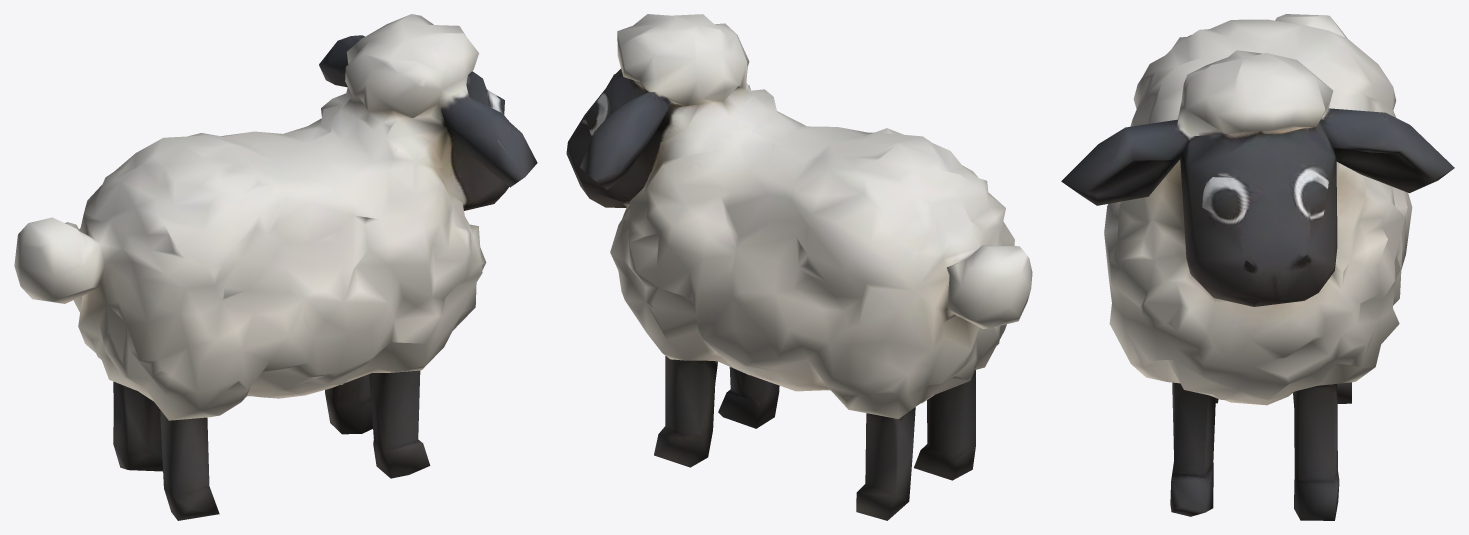
Rendered from sheep.glb.
3 views of the same model, side by side, from view 1: azimuth 30°, elevation 25°; view 2: azimuth 150°, elevation 25°; view 3: azimuth 270°, elevation 25° (orthographic). The views are drawn at different scales.
Parts seen in each view (by area): view 1: sheep-0; view 2: sheep-0; view 3: sheep-0.
Part boxes in pixels (x1,y1,x2,y2): sheep-0: [14, 14, 537, 520]; sheep-0: [566, 14, 1032, 520]; sheep-0: [1061, 14, 1454, 520].
Bounding box in the file's own units: 1 × 0.8267 × 0.6337.
1 material, 1 textured.
